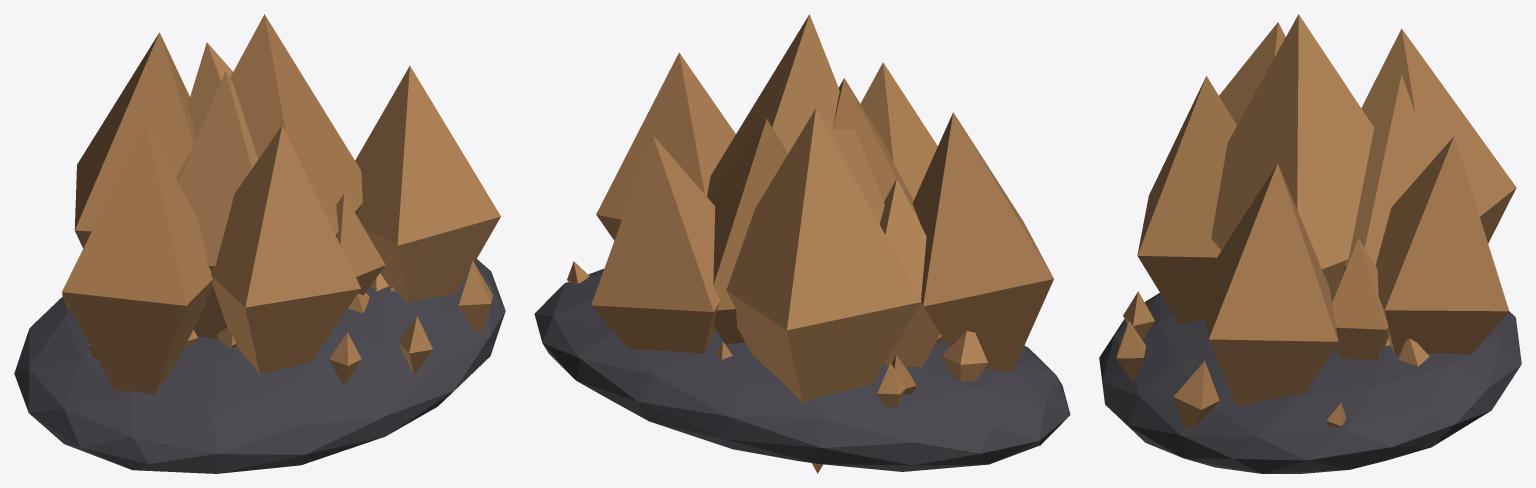
The model's file is zircon.glb.
3 views of the same model, side by side, from view 1: azimuth 30°, elevation 25°; view 2: azimuth 150°, elevation 25°; view 3: azimuth 270°, elevation 25° (orthographic). The views are drawn at different scales.
Parts seen in each view (by area): view 1: Zircon; view 2: Zircon; view 3: Zircon.
Part boxes in pixels (box(x1,y1,x2,y2)): Zircon: box(14, 14, 505, 473); Zircon: box(534, 14, 1070, 473); Zircon: box(1099, 14, 1521, 473).
Bounding box in the file's own units: 3.96 × 3.33 × 3.03.
